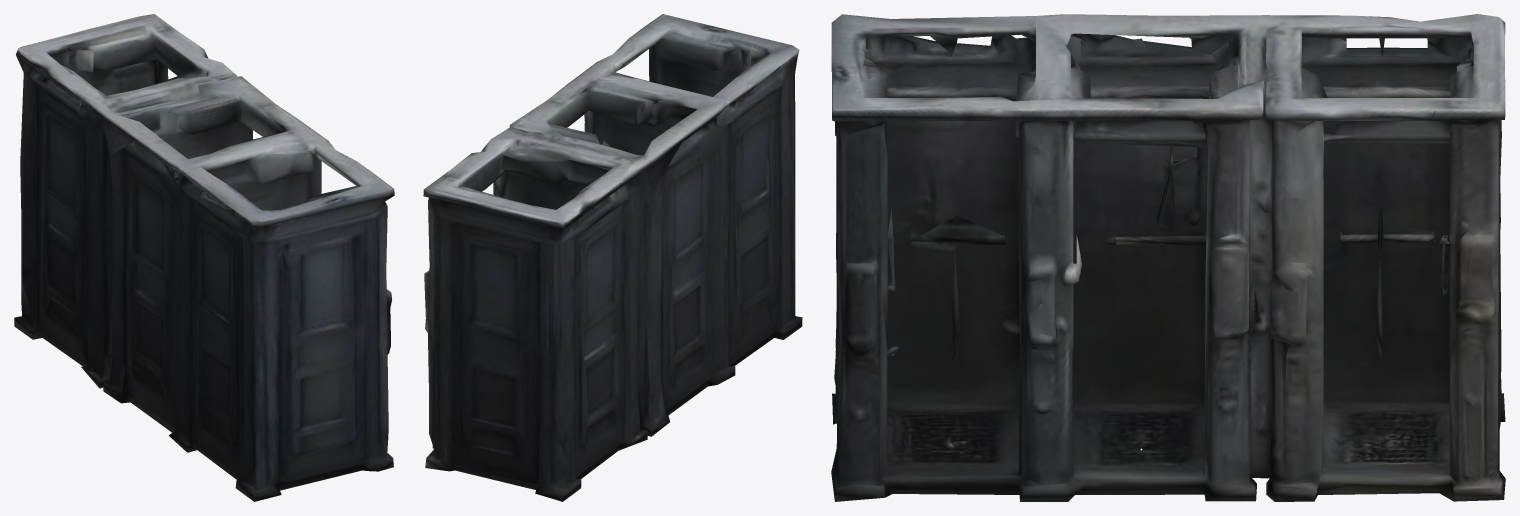
The model's file is xd_shower.glb.
The picture shows the model from 3 angles, left to right: view 1: azimuth 30°, elevation 25°; view 2: azimuth 150°, elevation 25°; view 3: azimuth 270°, elevation 25°; orthographic projection. The views are drawn at different scales.
Parts seen in each view (by area): view 1: tripo_node_b0d07327-2e4d-4368-a486-70b535a02f05; view 2: tripo_node_b0d07327-2e4d-4368-a486-70b535a02f05; view 3: tripo_node_b0d07327-2e4d-4368-a486-70b535a02f05.
Boxes of the visible parts, x1,y1,x2,y2 form: tripo_node_b0d07327-2e4d-4368-a486-70b535a02f05: (14,14,394,501); tripo_node_b0d07327-2e4d-4368-a486-70b535a02f05: (423,14,802,501); tripo_node_b0d07327-2e4d-4368-a486-70b535a02f05: (831,14,1505,501).
Bounding box in the file's own units: 0.351 × 0.6429 × 1.
1 material, 1 textured.
